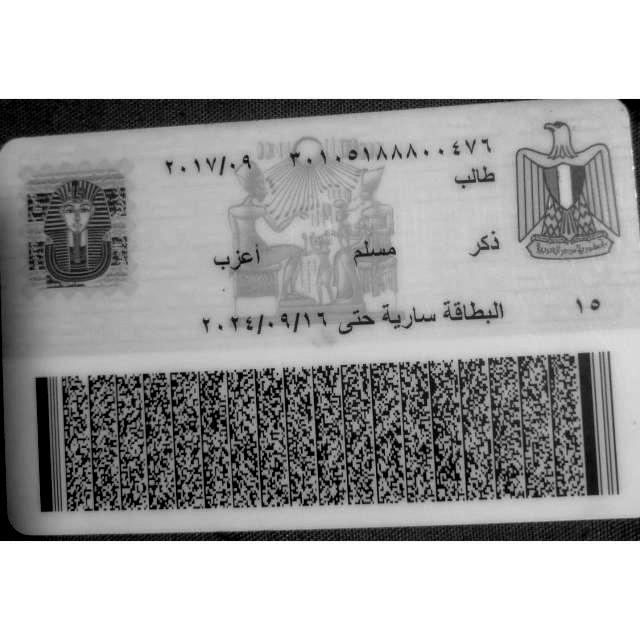id_card: (0, 103, 639, 534)
